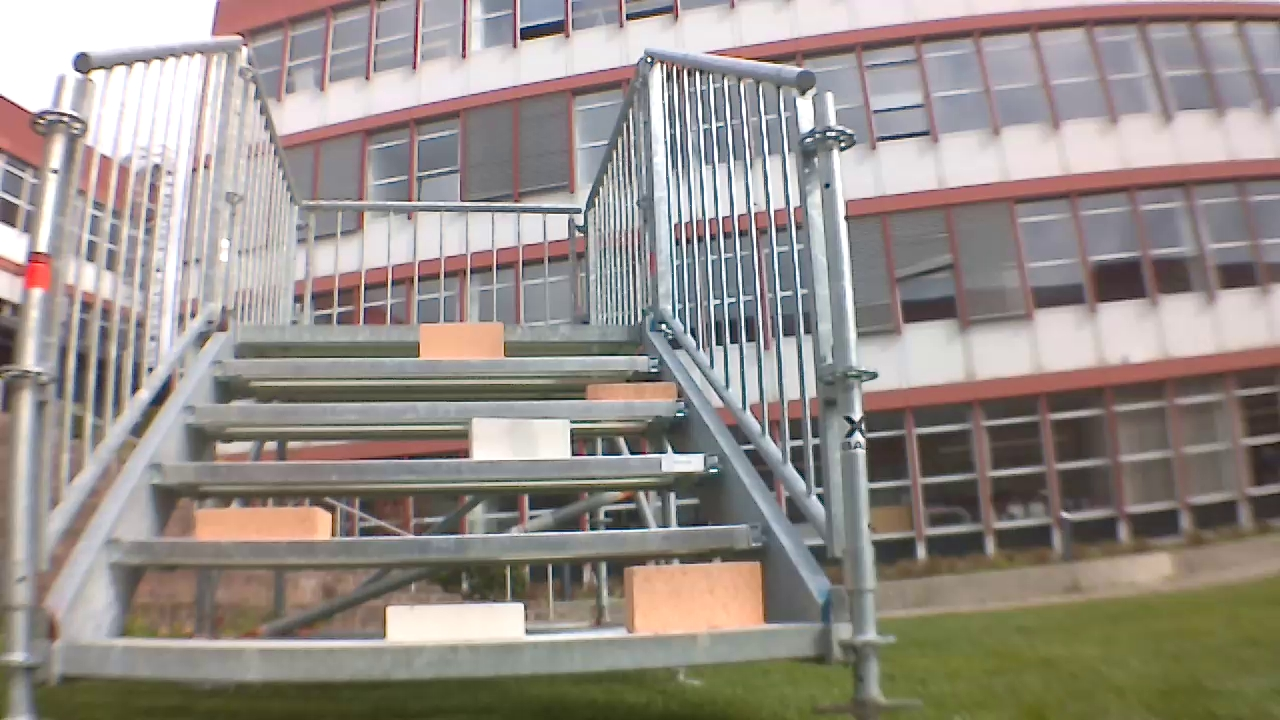brick: (625, 564, 768, 640), (382, 597, 536, 643), (186, 504, 344, 536), (471, 417, 577, 458), (415, 320, 512, 356), (582, 382, 680, 402)
edge: (53, 628, 845, 681), (111, 524, 764, 565), (144, 452, 718, 482), (205, 351, 665, 379), (176, 399, 693, 423), (229, 319, 647, 338)
stairs: (17, 36, 834, 687)
steps: (29, 323, 830, 676)
